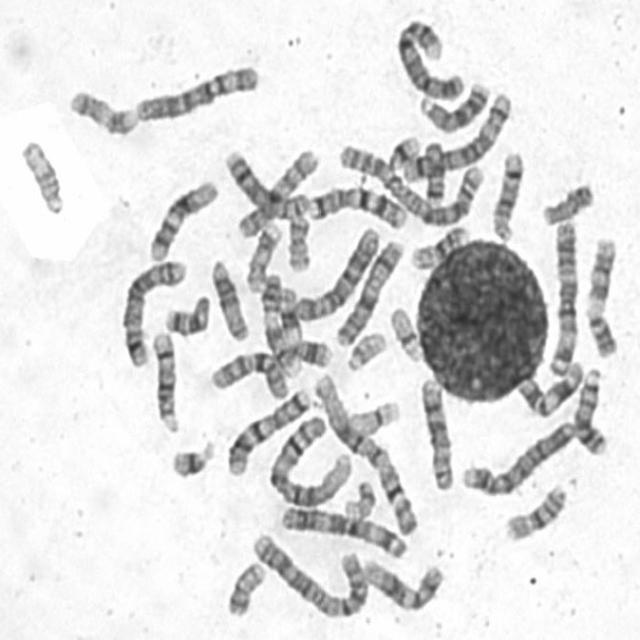A1: (308, 368, 419, 538), (264, 410, 354, 510)
A2: (332, 136, 487, 229), (247, 526, 370, 620)
A3: (276, 502, 410, 560), (543, 214, 581, 377)
B4: (456, 414, 577, 499), (391, 12, 466, 101)
B5: (396, 85, 516, 184), (117, 253, 189, 370)
C10: (234, 144, 320, 240), (205, 344, 293, 402)
C11: (271, 280, 334, 370), (514, 355, 586, 419)
C12: (144, 174, 220, 263), (358, 551, 446, 614)
C6: (289, 222, 382, 322), (129, 58, 262, 125)
C7: (222, 382, 314, 478), (304, 180, 410, 230)
C8: (220, 144, 310, 220), (415, 372, 457, 493)
C9: (256, 267, 305, 379), (581, 232, 621, 358)
D13: (414, 76, 492, 134), (570, 362, 610, 457)
D14: (487, 145, 526, 243), (147, 326, 182, 434)
D15: (16, 134, 67, 217), (206, 253, 252, 343)
E16: (500, 478, 569, 544), (406, 219, 472, 271)
E17: (64, 84, 140, 137), (241, 217, 284, 294)
E18: (160, 288, 212, 337), (420, 135, 448, 208)
F19: (344, 394, 402, 437), (386, 301, 424, 364)
F20: (221, 556, 268, 618), (283, 210, 313, 273)
G21: (165, 435, 218, 481), (382, 128, 422, 173)
G22: (343, 327, 388, 373), (340, 474, 378, 521)
X: (330, 234, 406, 348)
Y: (538, 177, 596, 227)
